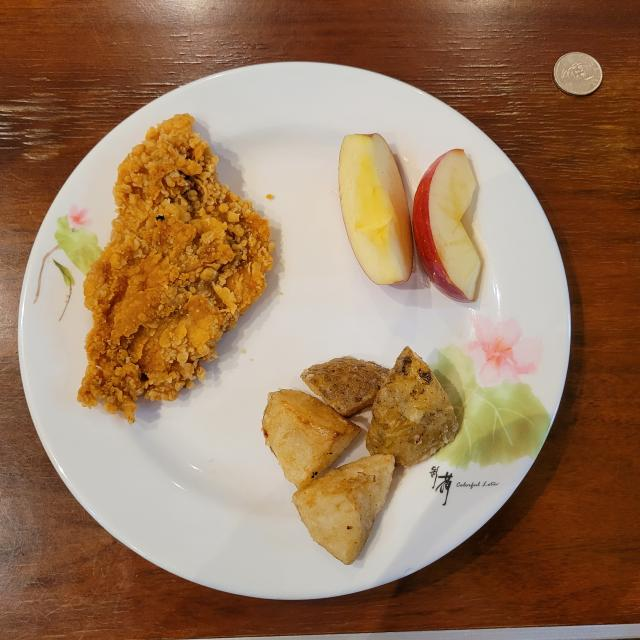coin: (554, 52, 602, 96)
fried chicken cutlet: (78, 114, 274, 422)
fried potato: (261, 346, 459, 564)
